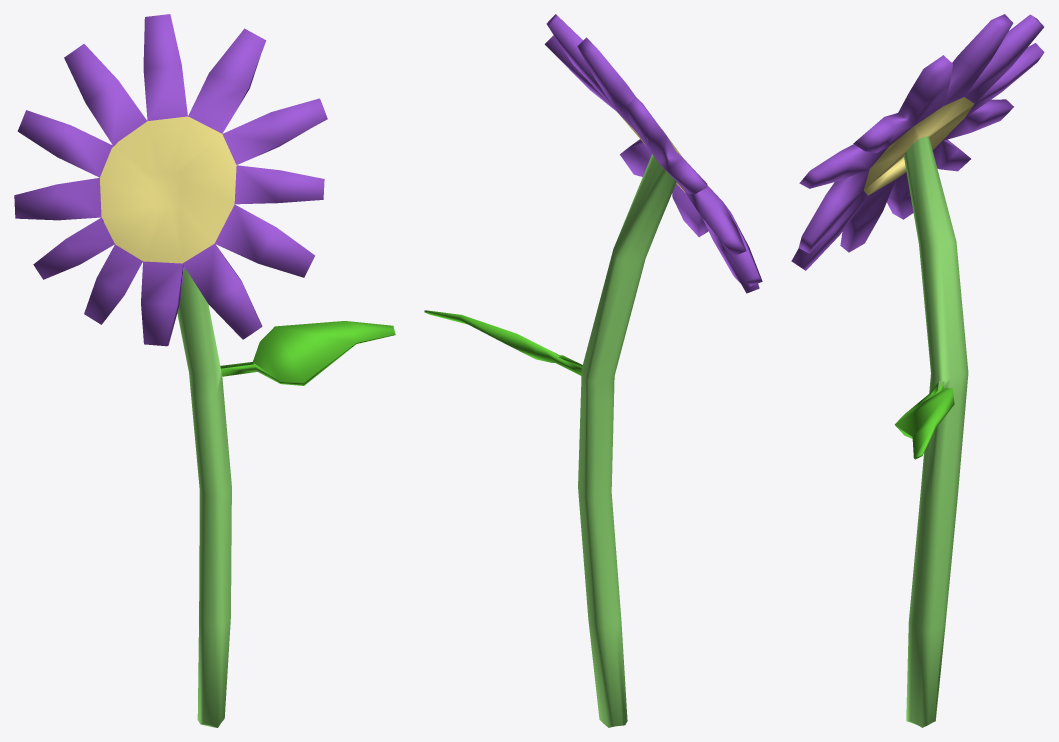
The model's file is Flor_001_LOD.fbx.
3 views of the same model, side by side, from view 1: azimuth 30°, elevation 25°; view 2: azimuth 150°, elevation 25°; view 3: azimuth 270°, elevation 25° (orthographic). The views are drawn at different scales.
Visible parts, largest first — view 1: Flor_001_LOD0; view 2: Flor_001_LOD0; view 3: Flor_001_LOD0.
Boxes of the visible parts, x1,y1,x2,y2 form: Flor_001_LOD0: (14, 14, 395, 727); Flor_001_LOD0: (424, 14, 762, 727); Flor_001_LOD0: (791, 14, 1044, 727).
Size of what is drawn, in the model's own units: 95.38 by 183 by 59.65.
